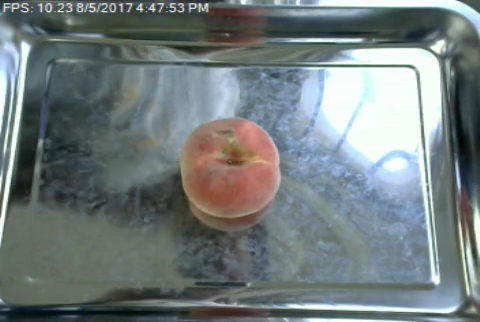Peach: (182, 117, 279, 220)
